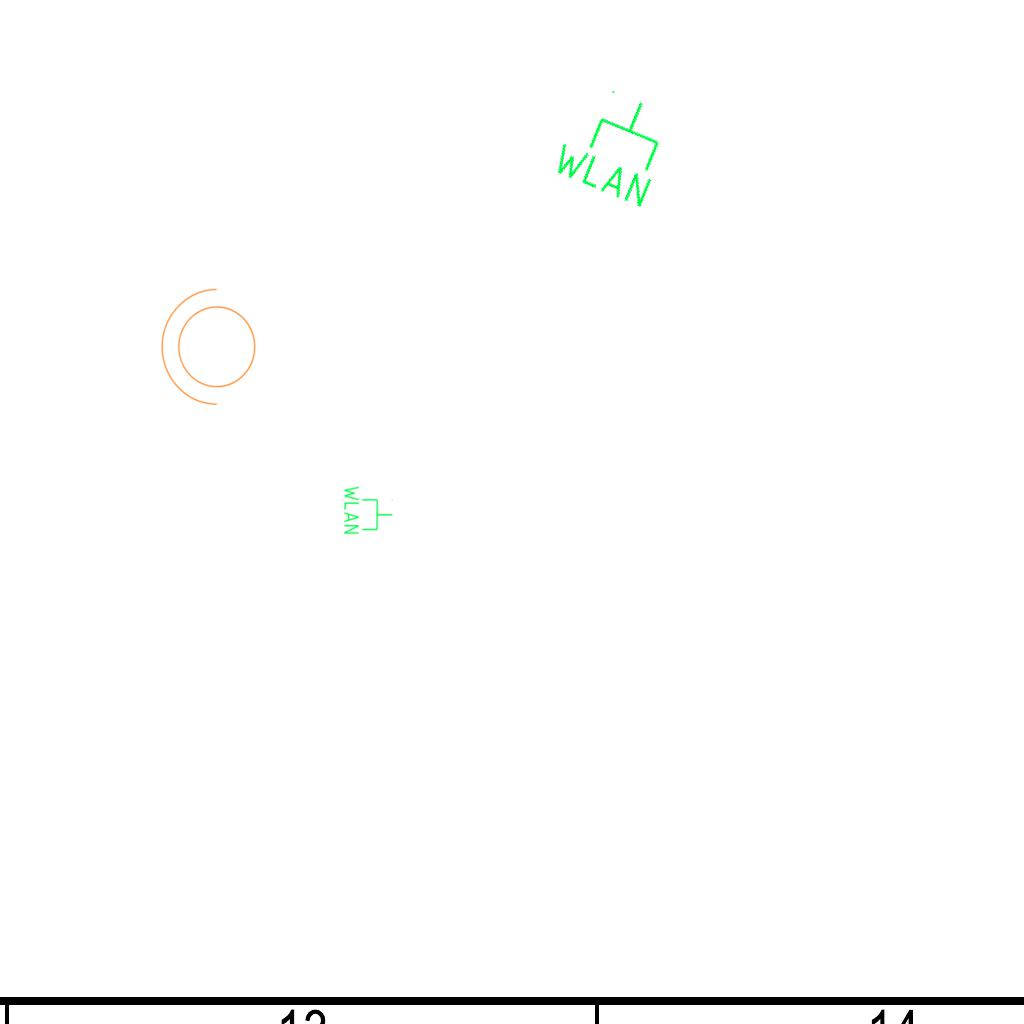Scheinwerfer_fuer_Alarmbeleuchtung: (156, 284, 268, 416)
WLAN: (545, 76, 683, 213), (342, 484, 394, 536)
